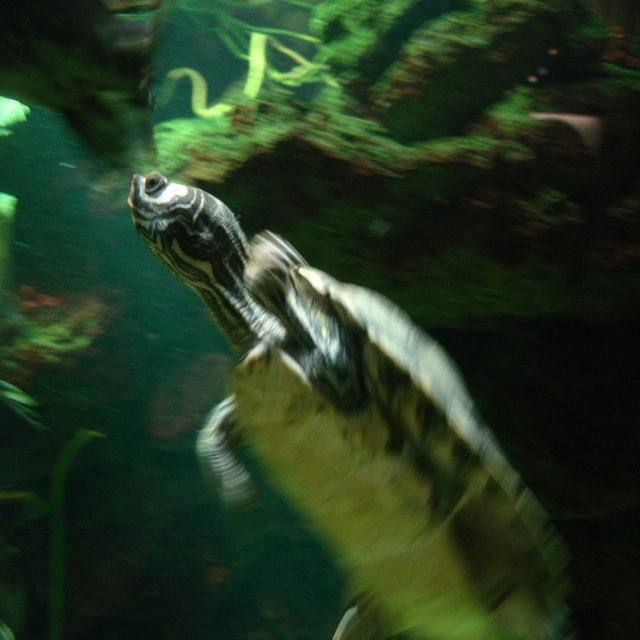Sea turtle: (120, 170, 576, 639)
